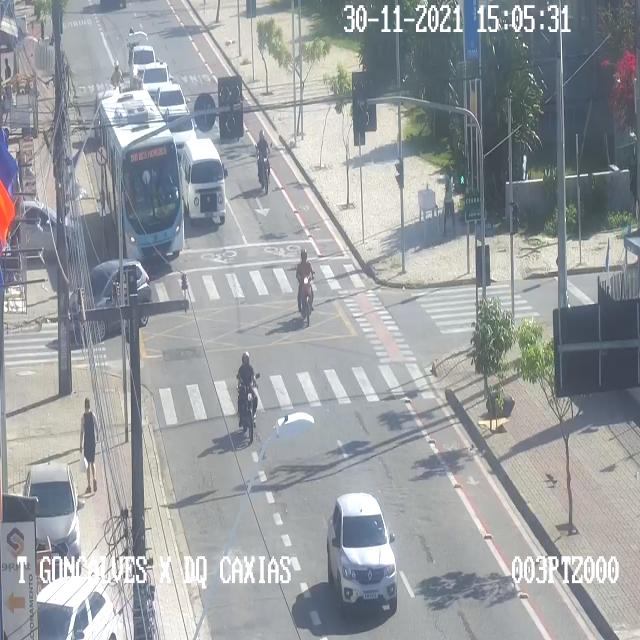Bus: (98, 89, 184, 259)
Car: (326, 492, 396, 608), (68, 259, 150, 336), (24, 464, 80, 573), (37, 576, 117, 639), (180, 138, 224, 222), (20, 200, 81, 257), (164, 108, 196, 154), (154, 84, 186, 122), (140, 61, 170, 100), (130, 44, 155, 86)
Motorcycle: (237, 351, 257, 441), (296, 248, 314, 326), (256, 130, 270, 192), (110, 60, 122, 95)
